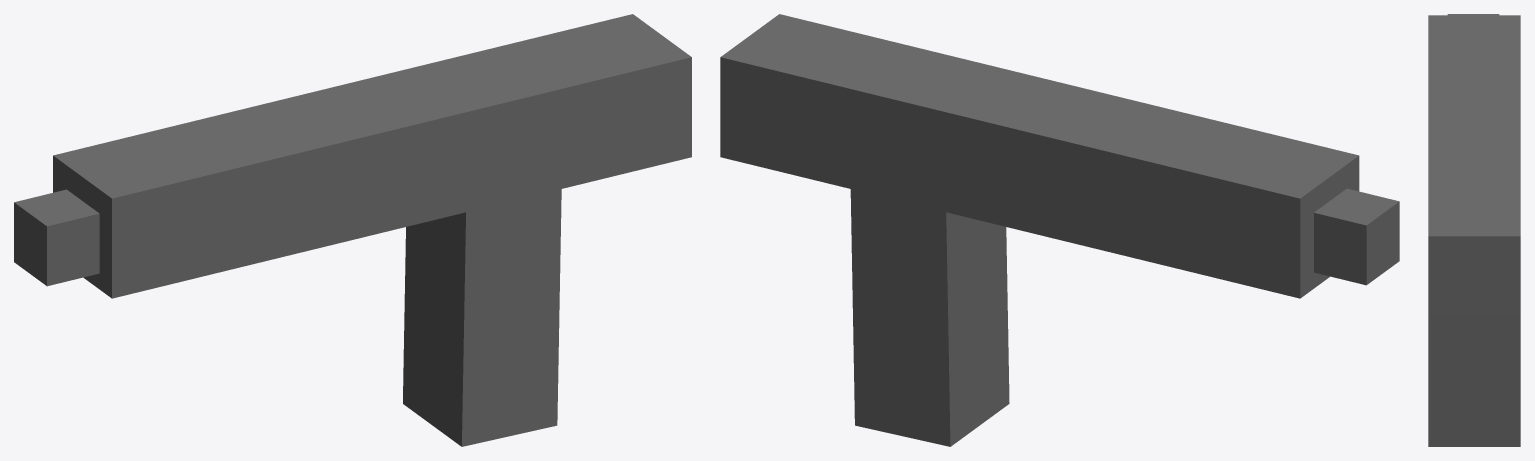
Rendered from gun.obj.
The picture shows the model from 3 angles, left to right: view 1: azimuth 30°, elevation 25°; view 2: azimuth 150°, elevation 25°; view 3: azimuth 270°, elevation 25°; orthographic projection. The views are drawn at different scales.
Visible parts, largest first — view 1: Cube_Cube.001; view 2: Cube_Cube.001; view 3: Cube_Cube.001.
Boxes of the visible parts, box(x1,y1,x2,y2) form: Cube_Cube.001: box(14, 14, 691, 446); Cube_Cube.001: box(720, 14, 1399, 446); Cube_Cube.001: box(1428, 14, 1520, 446).
Bounding box in the file's own units: 1.62 × 0.8197 × 0.2613.
Materials: 1 (1 with a texture image).
